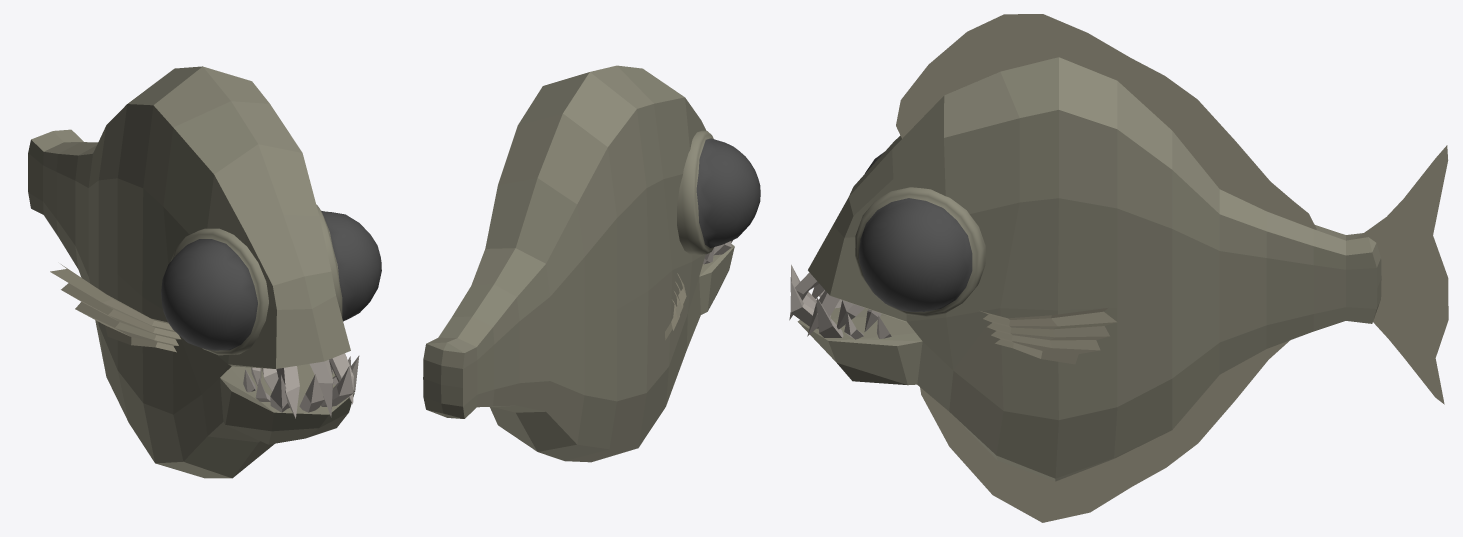
File: turbot.glb
3 views of the same model, side by side, from view 1: azimuth 30°, elevation 25°; view 2: azimuth 150°, elevation 25°; view 3: azimuth 270°, elevation 25° (orthographic). The views are drawn at different scales.
Visible parts, largest first — view 1: cutefish__Turbot.glb; view 2: cutefish__Turbot.glb; view 3: cutefish__Turbot.glb.
Boxes of the visible parts, <box> form: cutefish__Turbot.glb: <box>28,66,381,478</box>; cutefish__Turbot.glb: <box>423,65,760,462</box>; cutefish__Turbot.glb: <box>789,14,1448,522</box>.
Bounding box in the file's own units: 2.09 × 3.94 × 4.63.
